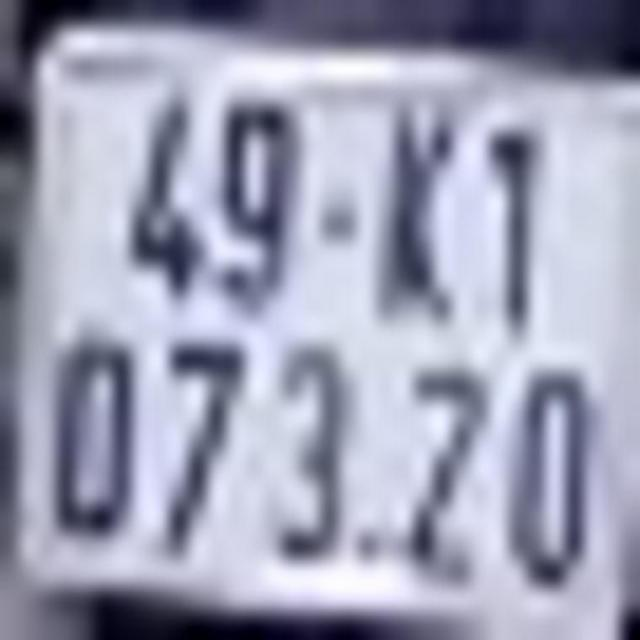0: (513, 346, 593, 592), (49, 332, 139, 540)
1: (476, 115, 552, 328)
3: (272, 338, 348, 561)
4: (124, 98, 206, 301)
7: (157, 325, 240, 552), (407, 356, 492, 567)
9: (214, 91, 296, 311)
K: (379, 98, 458, 332)
